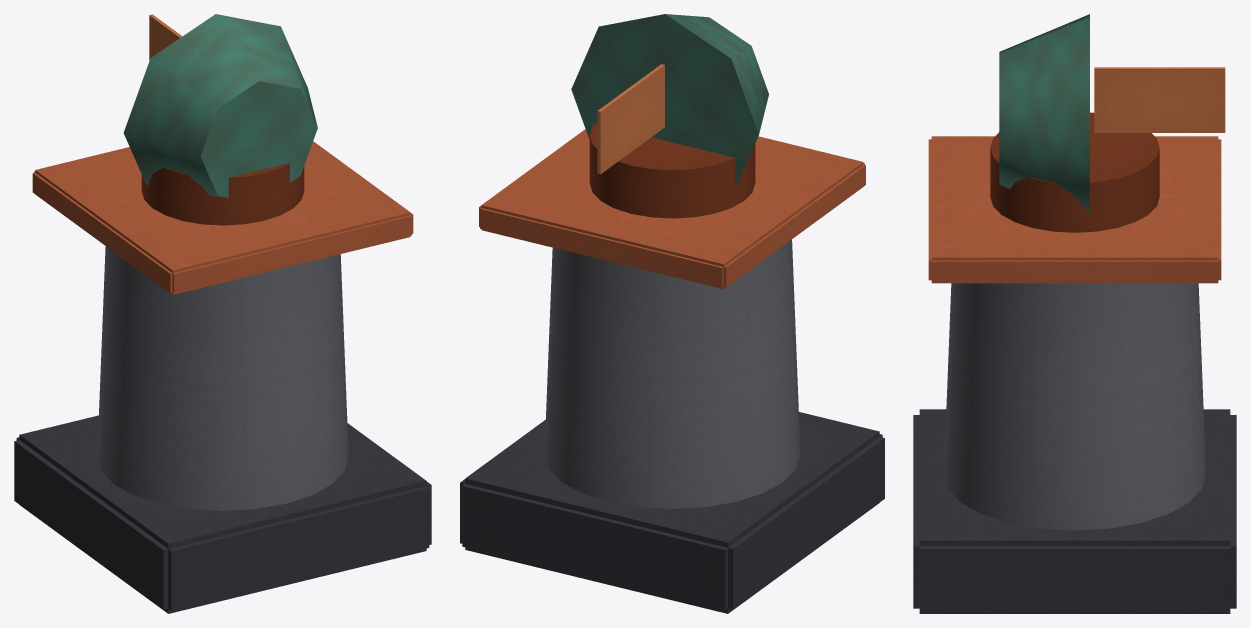
The model's file is ventilation_windlass_shaft.glb.
3 views of the same model, side by side, from view 1: azimuth 30°, elevation 25°; view 2: azimuth 150°, elevation 25°; view 3: azimuth 270°, elevation 25° (orthographic). The views are drawn at different scales.
Visible parts, largest first — view 1: ventilation_windlass_shaft; view 2: ventilation_windlass_shaft; view 3: ventilation_windlass_shaft.
Boxes of the visible parts, x1=… form: ventilation_windlass_shaft: x1=14, y1=14, x2=431, y2=613; ventilation_windlass_shaft: x1=460, y1=14, x2=884, y2=613; ventilation_windlass_shaft: x1=913, y1=14, x2=1236, y2=613.
Size of the model in its own units: 1.6 by 2.9 by 1.6.
Materials: 1 (1 with a texture image).
